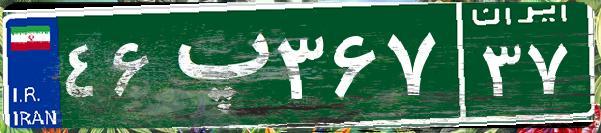3: (273, 28, 330, 110), (475, 38, 525, 113)
4: (57, 26, 110, 107)
6: (330, 28, 385, 110), (110, 28, 158, 105)
7: (385, 28, 445, 110), (525, 38, 570, 115)
پ: (158, 15, 273, 115)
